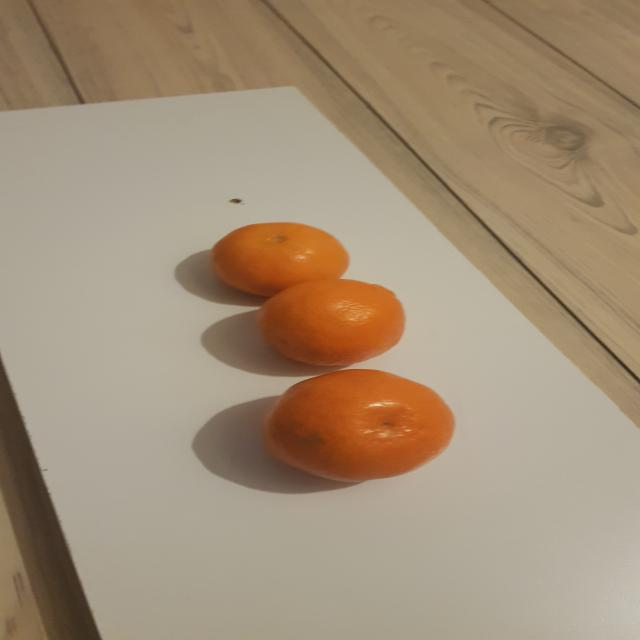Orange: (262, 369, 457, 483), (257, 279, 406, 366), (212, 223, 349, 297)
